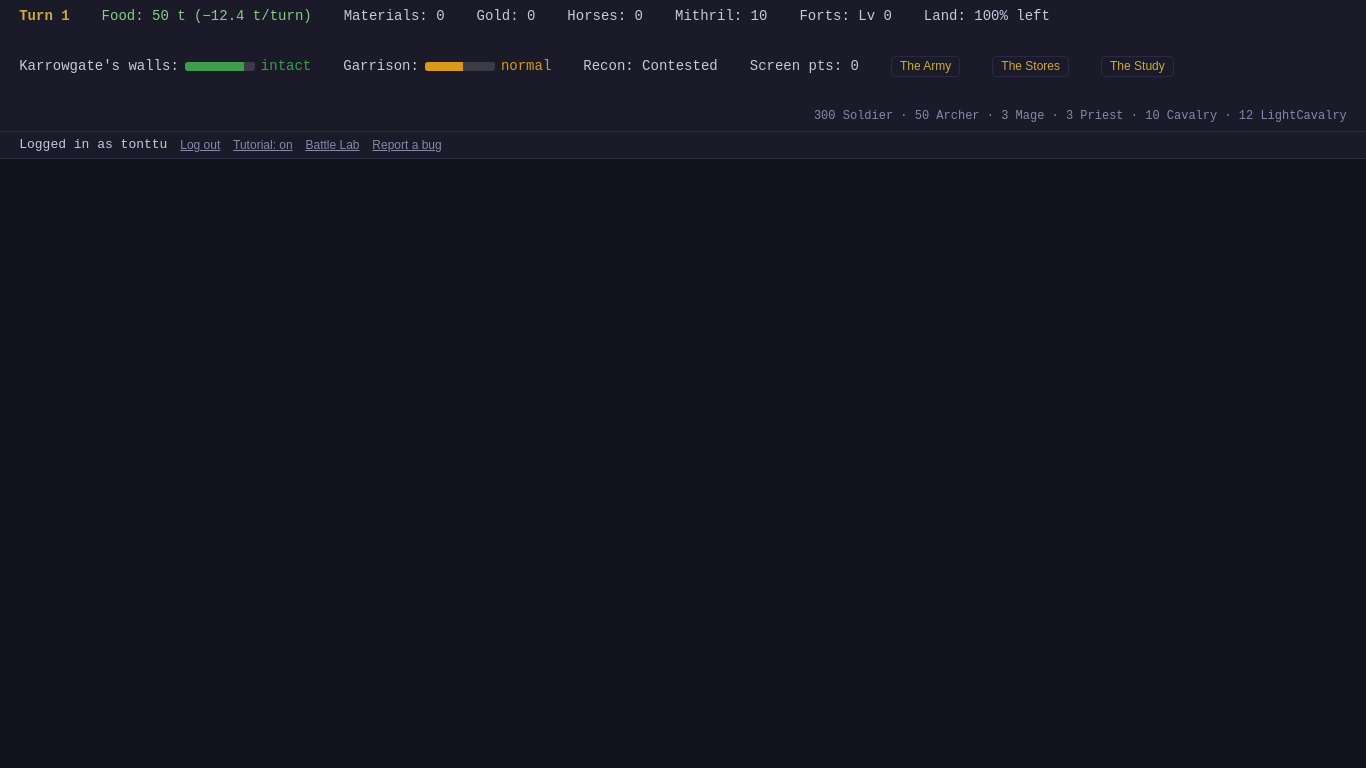
Test: the focus is gated on the SERVER phase, not the screen (S2-12) › stays settled on a UI-only screen, whose phase rank is −1
Click the button with test id "hud-study".
click(1137, 66)  # box [1101, 56, 1174, 77]
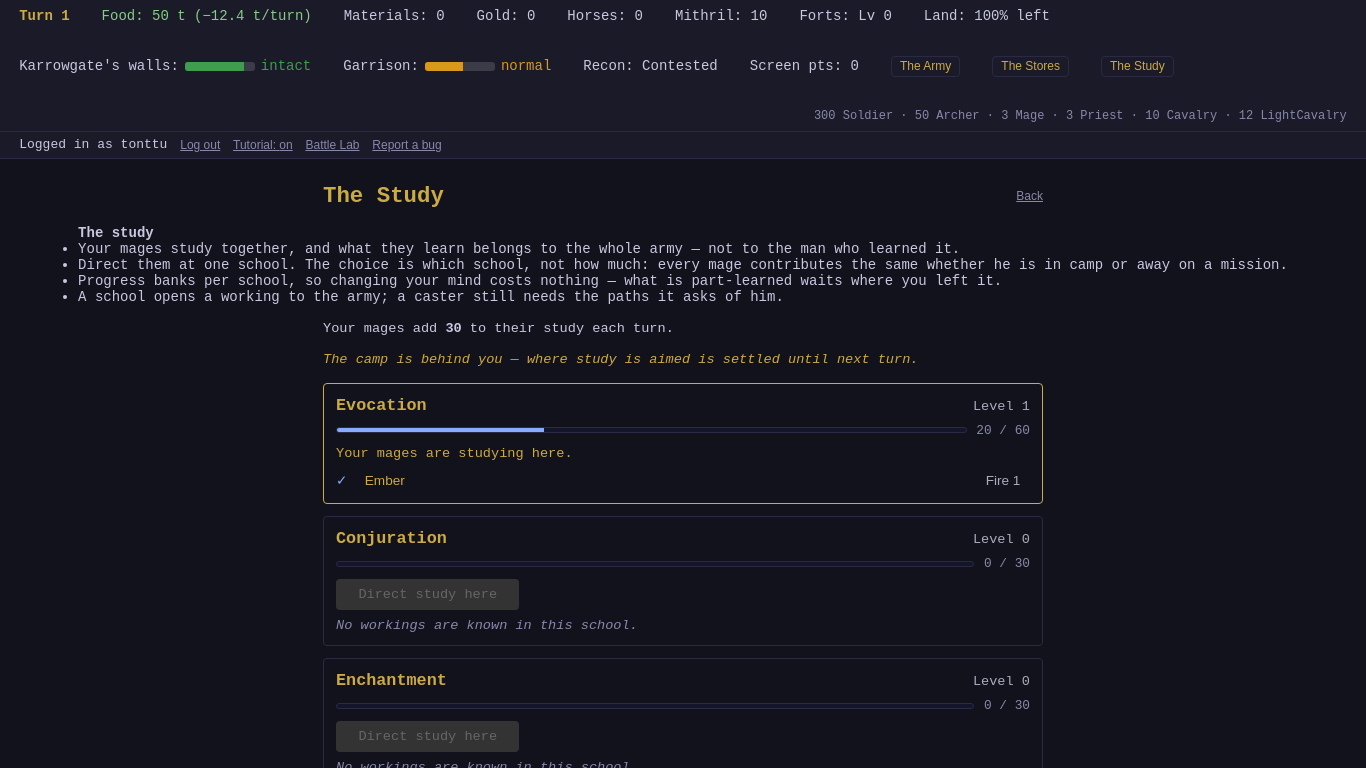
Expected: the element with test id "study-page" is shown
Expected: the button with test id "study-focus-conjuration" is disabled, [336, 579, 520, 610]
